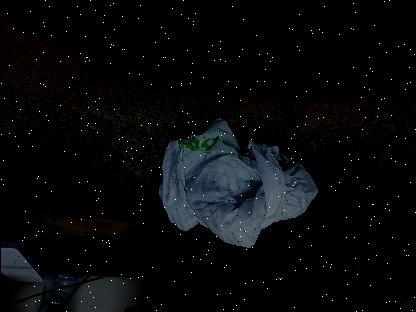Others: (156, 118, 320, 249)
